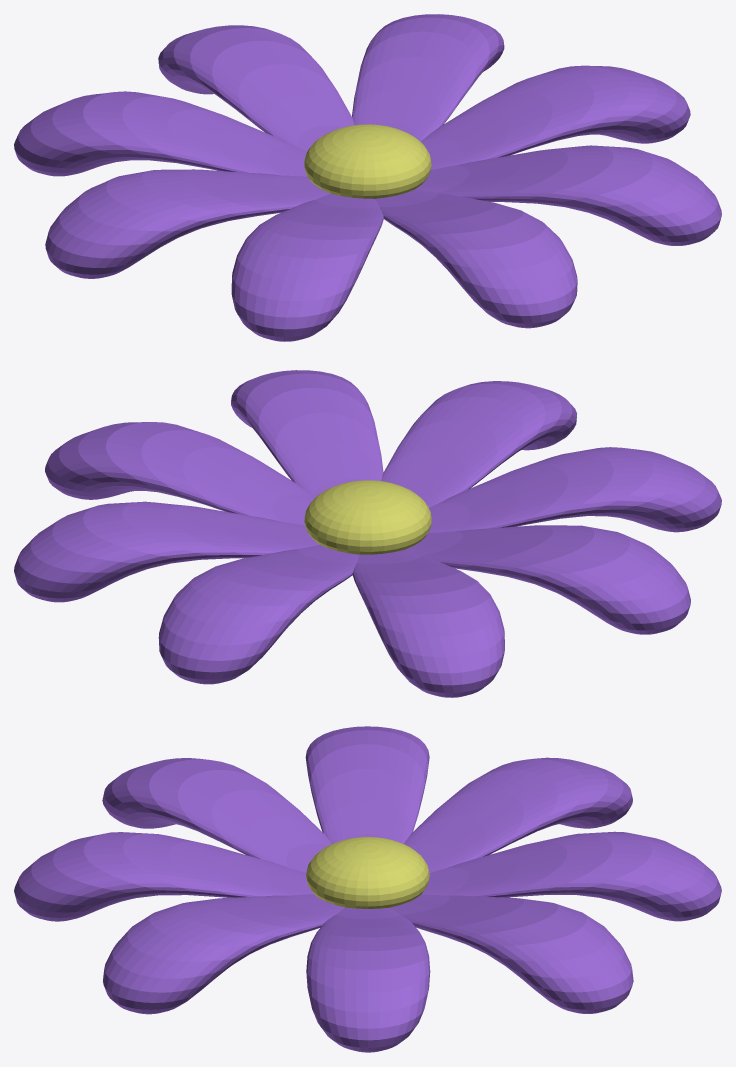
File: purple_daisy.fbx
3 renders of one model, top to bottom at view 1: azimuth 30°, elevation 25°; view 2: azimuth 150°, elevation 25°; view 3: azimuth 270°, elevation 25°, orthographic. The views are drawn at different scales.
Parts seen in each view (by area): view 1: Sphere.008, Sphere.001; view 2: Sphere.008, Sphere.001; view 3: Sphere.008, Sphere.001.
Boxes of the visible parts, x1,y1,x2,y2 form: Sphere.008: (14, 14, 721, 341); Sphere.001: (304, 124, 431, 198); Sphere.008: (14, 370, 721, 697); Sphere.001: (304, 480, 431, 554); Sphere.008: (14, 726, 721, 1052); Sphere.001: (306, 837, 429, 908).
Bounding box in the file's own units: 1142 × 122 × 1142.
